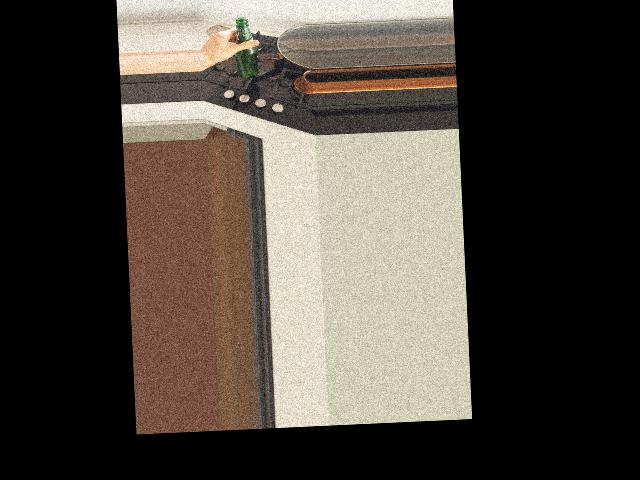beer: (235, 17, 258, 79)
